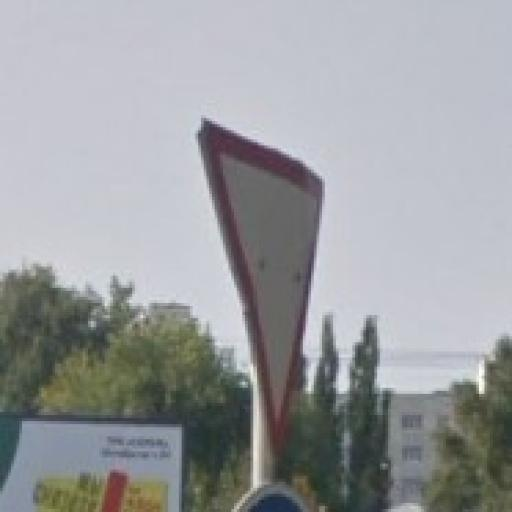traffic_sign: (199, 116, 326, 465)
